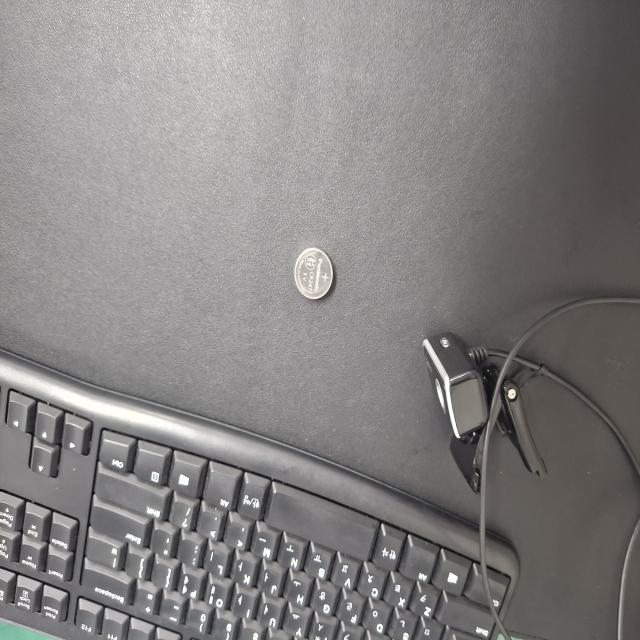COIN: (256, 394, 294, 443)
